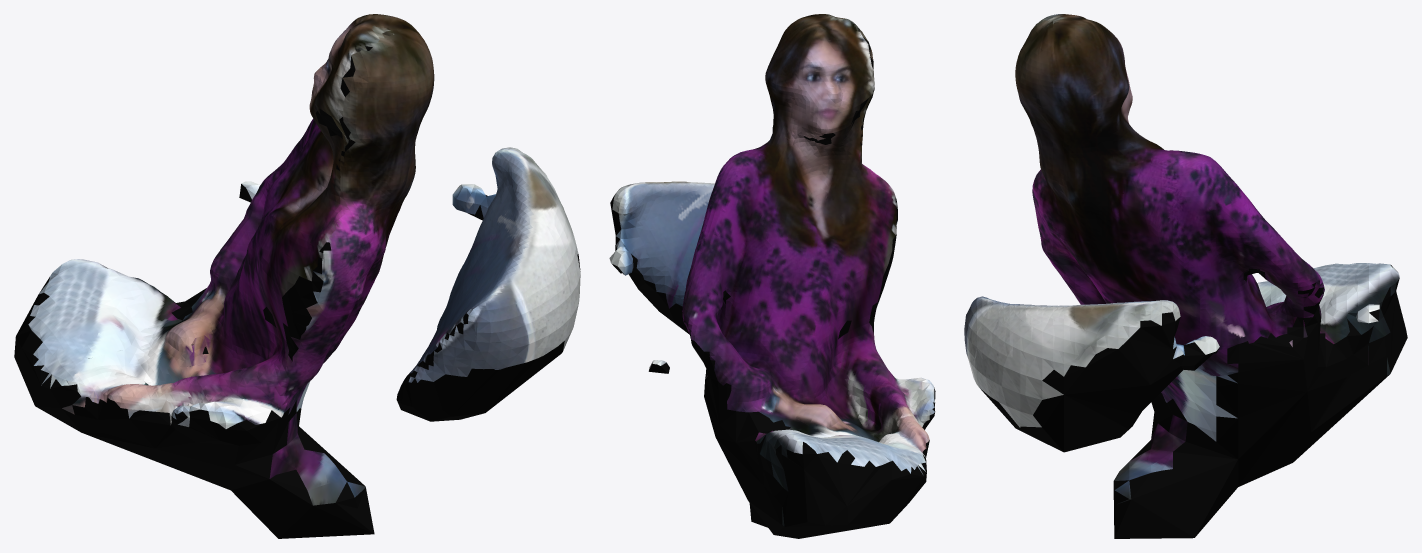
Rendered from Shivani-at-office.glb.
3 views of the same model, side by side, from view 1: azimuth 30°, elevation 25°; view 2: azimuth 150°, elevation 25°; view 3: azimuth 270°, elevation 25° (orthographic). The views are drawn at different scales.
Bounding box in the file's own units: 0.8169 × 0.9659 × 0.7613.
1 material, 1 textured.
